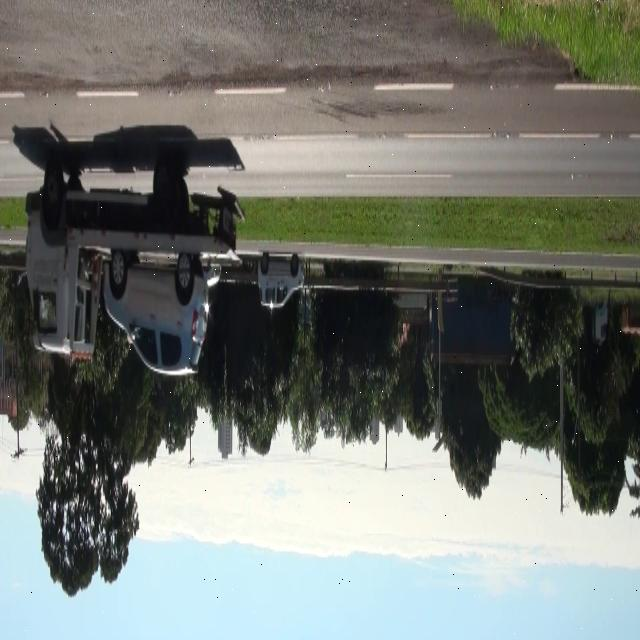-axle: (150, 146, 177, 221), (41, 154, 66, 220)
